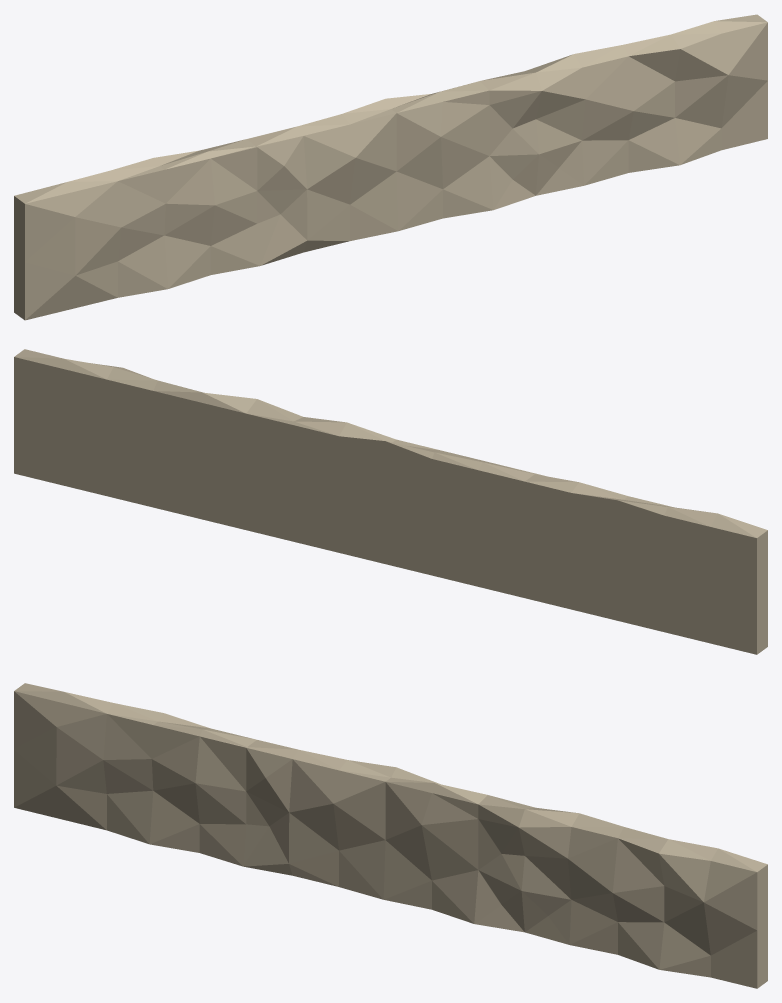
File: Стена Большая.FBX
3 views of the same model, one above another, from view 1: azimuth 30°, elevation 25°; view 2: azimuth 150°, elevation 25°; view 3: azimuth 330°, elevation 25° (orthographic).
Visible parts, largest first — view 1: Box063; view 2: Box063; view 3: Box063.
Boxes of the visible parts, box(x1,y1,x2,y2) form: Box063: box(14, 14, 767, 320); Box063: box(14, 349, 767, 654); Box063: box(14, 683, 767, 988).
Bounding box in the file's own units: 400 × 64.15 × 16.51.
